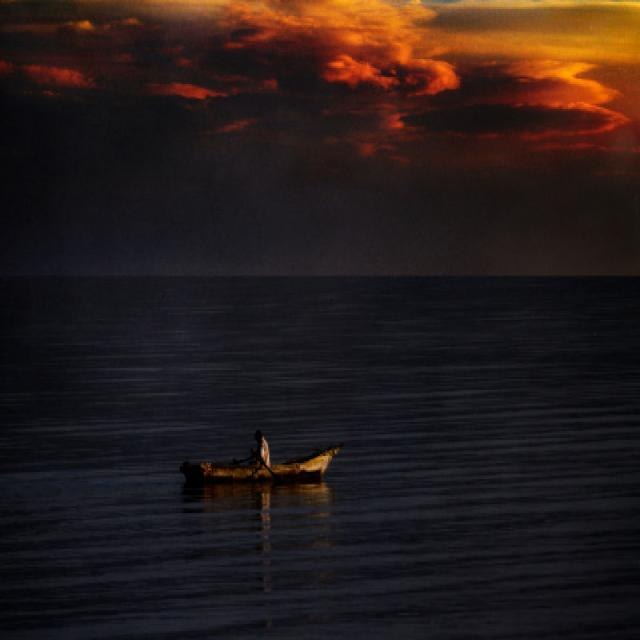Boat: (151, 402, 349, 513)
